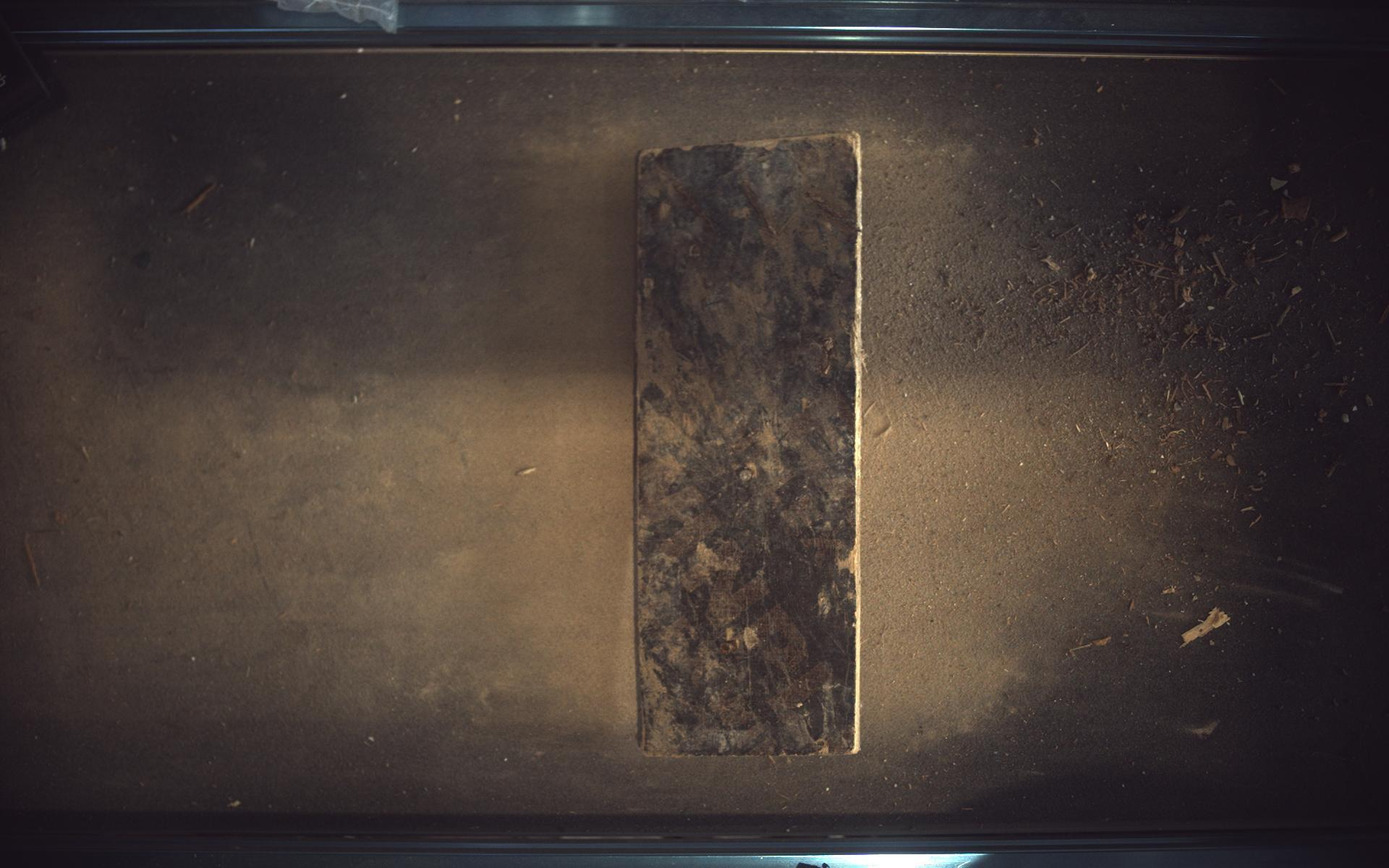wood: (635, 132, 863, 757)
